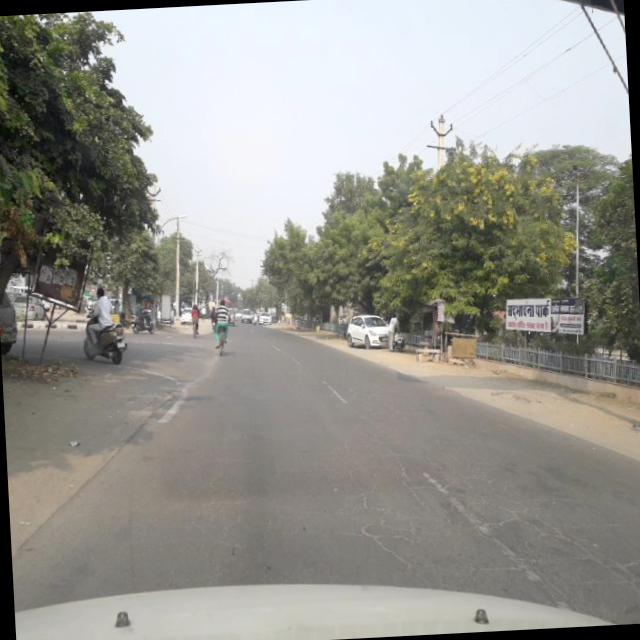crack: (479, 491, 640, 592), (346, 442, 441, 574)
